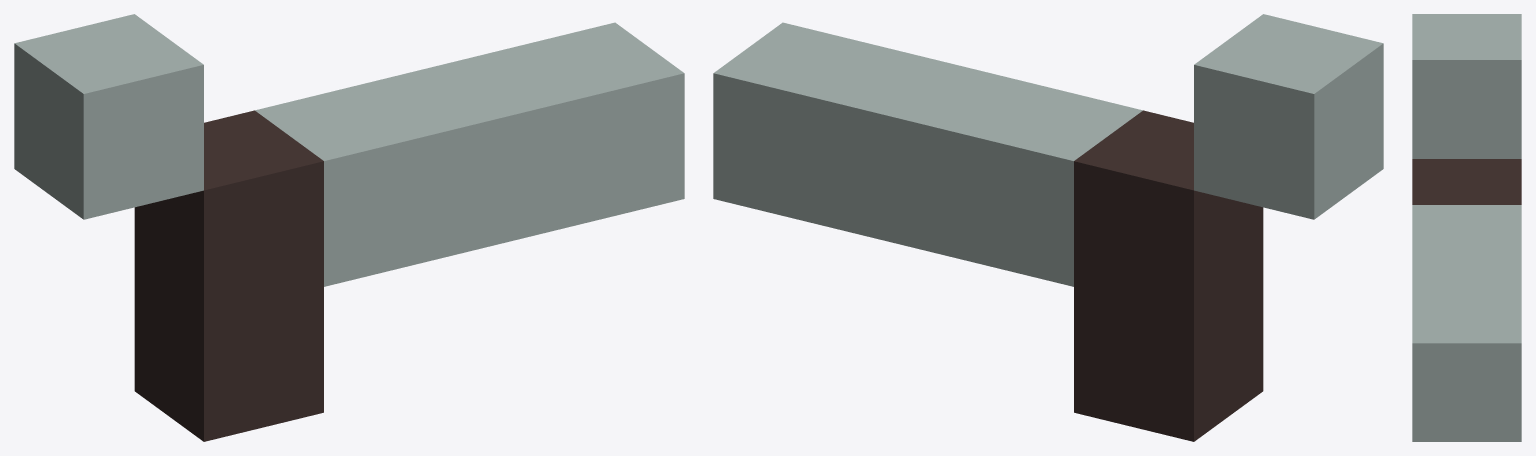
Rendered from pistol.fbx.
The picture shows the model from 3 angles, left to right: view 1: azimuth 30°, elevation 25°; view 2: azimuth 150°, elevation 25°; view 3: azimuth 270°, elevation 25°; orthographic projection. The views are drawn at different scales.
Visible parts, largest first — view 1: pistol_0; view 2: pistol_0; view 3: pistol_0.
Boxes of the visible parts, x1,y1,x2,y2 form: pistol_0: [14, 14, 684, 441]; pistol_0: [713, 14, 1383, 441]; pistol_0: [1412, 14, 1521, 441].
Size of the model in its own units: 500 by 100 by 300.
